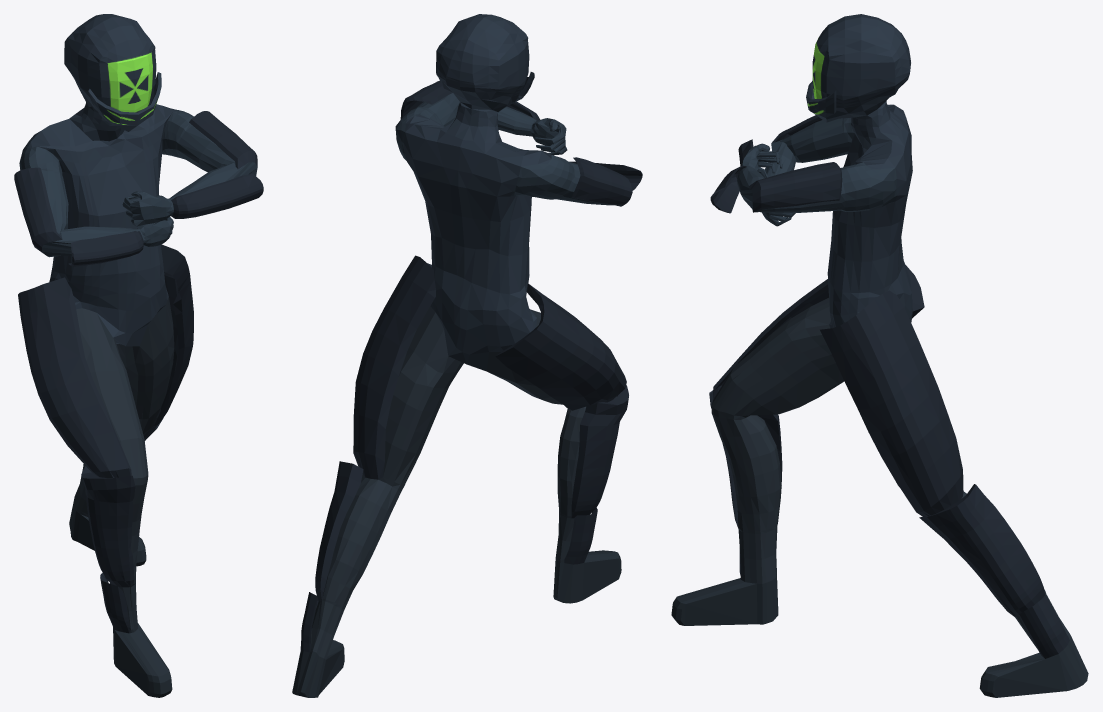
The model's file is Bastion_WR_000016.obj.
3 renders of one model, left to right at view 1: azimuth 30°, elevation 25°; view 2: azimuth 150°, elevation 25°; view 3: azimuth 270°, elevation 25°, orthographic. The views are drawn at different scales.
Parts seen in each view (by area): view 1: Cube.002; view 2: Cube.002; view 3: Cube.002.
Part boxes in pixels (x1,y1,x2,y2): Cube.002: (14, 14, 263, 697); Cube.002: (292, 14, 642, 697); Cube.002: (671, 14, 1088, 697).
Bounding box in the file's own units: 1.31 × 3.6 × 2.15.
